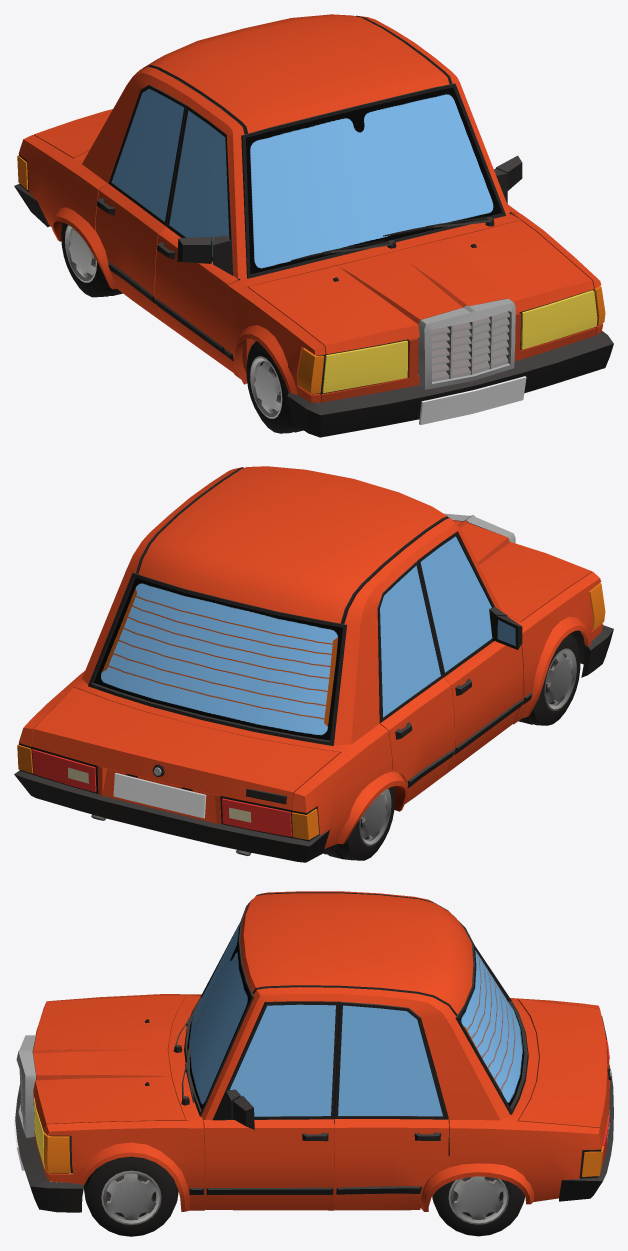
Rendered from Carro1.obj.
3 renders of one model, top to bottom at view 1: azimuth 30°, elevation 25°; view 2: azimuth 150°, elevation 25°; view 3: azimuth 270°, elevation 25°, orthographic. The views are drawn at different scales.
Visible parts, largest first — view 1: obj1, obj3, obj14, obj19, obj16, obj2, obj50, obj55, obj52, obj56, obj53, obj51 (+13 smaller); view 2: obj1, obj3, obj20, obj23, obj14, obj55, obj52, obj50, obj2, obj53, obj56, obj51 (+10 smaller); view 3: obj1, obj14, obj26, obj3, obj28, obj31, obj20, obj29, obj24, obj2, obj27, obj13 (+10 smaller).
Boxes of the visible parts, x1,y1,x2,y2 form: obj1: [18, 14, 520, 289]; obj3: [246, 87, 500, 274]; obj14: [248, 220, 593, 354]; obj19: [287, 331, 613, 437]; obj16: [418, 298, 515, 389]; obj2: [53, 15, 596, 402]; obj50: [155, 227, 237, 372]; obj55: [112, 88, 183, 221]; obj52: [169, 110, 229, 256]; obj56: [224, 280, 325, 402]; obj53: [96, 183, 166, 322]; obj51: [155, 105, 240, 354]; obj1: [18, 466, 520, 848]; obj3: [94, 577, 342, 740]; obj20: [32, 687, 339, 809]; obj23: [14, 770, 329, 862]; obj14: [453, 520, 591, 621]; obj55: [380, 565, 440, 717]; obj52: [420, 536, 492, 672]; obj50: [443, 641, 523, 774]; obj2: [31, 467, 520, 855]; obj53: [380, 678, 454, 803]; obj56: [514, 572, 602, 723]; obj51: [418, 532, 522, 770]; obj1: [168, 891, 609, 1211]; obj14: [33, 995, 185, 1130]; obj26: [204, 1119, 334, 1210]; obj3: [187, 921, 524, 1109]; obj28: [230, 1004, 335, 1116]; obj31: [338, 1005, 442, 1116]; obj20: [518, 998, 612, 1141]; obj29: [334, 1119, 448, 1210]; obj24: [43, 1121, 204, 1211]; obj2: [33, 892, 609, 1208]; obj27: [204, 1001, 339, 1194]; obj13: [84, 1156, 178, 1236].
Bounding box in the file's own units: 1.31 × 0.9457 × 2.13.
Materials: 4 (4 with a texture image).
